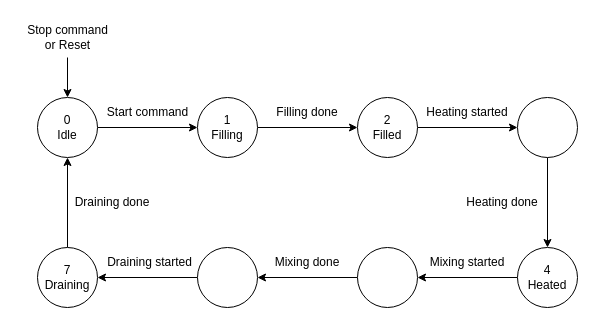
Some shapes in this 595 by 325 pixel diagram are drawn without their labels. Each missing label, with the centre of its shape:
"3 Heating" goes at pixel 547 127.
"5 Mixing" goes at pixel 387 277.
"6 Mixed" goes at pixel 227 277.
